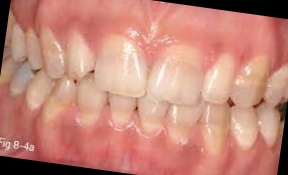Tooth Discoloration: (9, 55, 39, 95)
